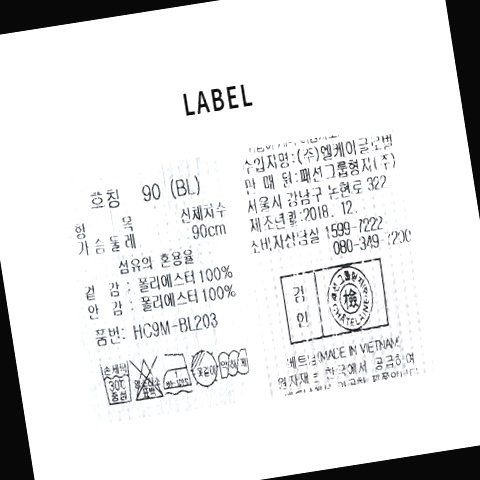DN_bleach: (129, 355, 167, 403)
hand_wash: (100, 357, 137, 408)
iron_low: (158, 351, 193, 396)
line_dry_in_shade: (187, 345, 222, 393)
wring: (216, 343, 253, 384)
